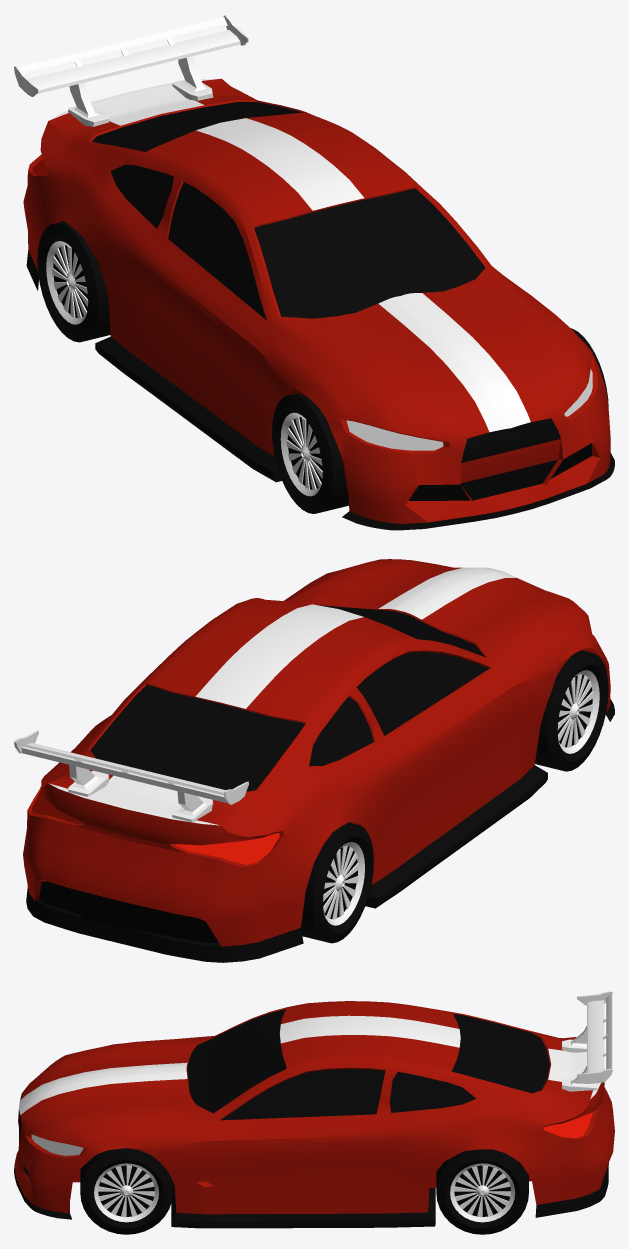
3 views of the same model, one above another, from view 1: azimuth 30°, elevation 25°; view 2: azimuth 150°, elevation 25°; view 3: azimuth 270°, elevation 25° (orthographic). The views are drawn at different scales.
Visible parts, largest first — view 1: Cube, Cylinder.002, Cylinder.001; view 2: Cube, Cylinder.001, Cylinder.002; view 3: Cube, Cylinder.004, Cylinder.003.
Part boxes in pixels (x1,y1,x2,y2): Cube: [14, 14, 614, 530]; Cylinder.002: [272, 393, 348, 513]; Cylinder.001: [37, 221, 110, 342]; Cube: [14, 559, 614, 962]; Cylinder.001: [301, 822, 373, 943]; Cylinder.002: [535, 650, 608, 771]; Cube: [14, 991, 614, 1228]; Cylinder.004: [436, 1149, 528, 1234]; Cylinder.003: [80, 1148, 172, 1234].
Bounding box in the file's own units: 409 × 288 × 985.
3 materials, 3 textured.
